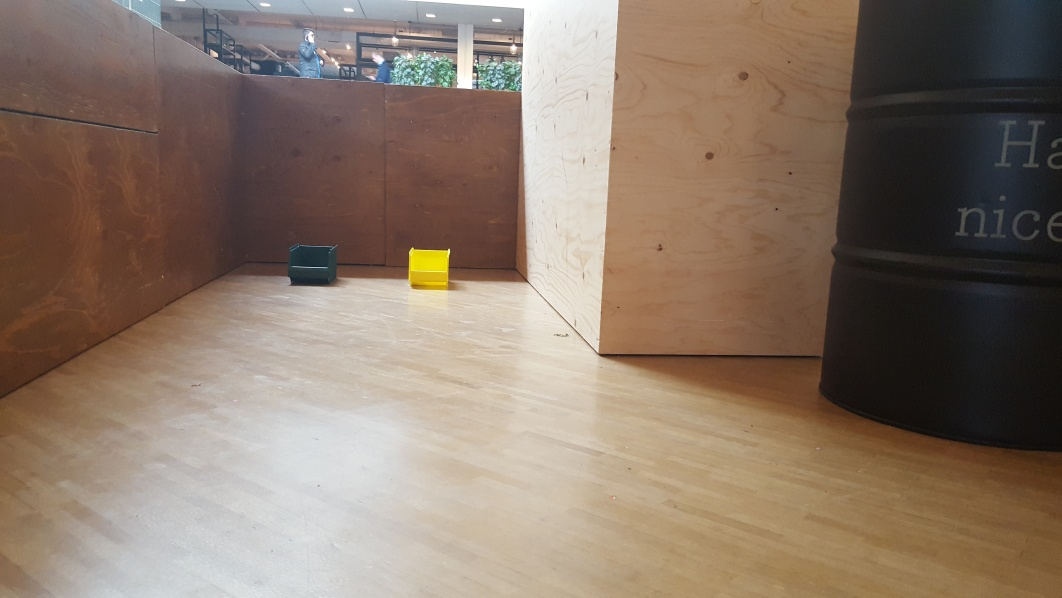tray: (286, 241, 338, 287), (405, 247, 454, 287)
